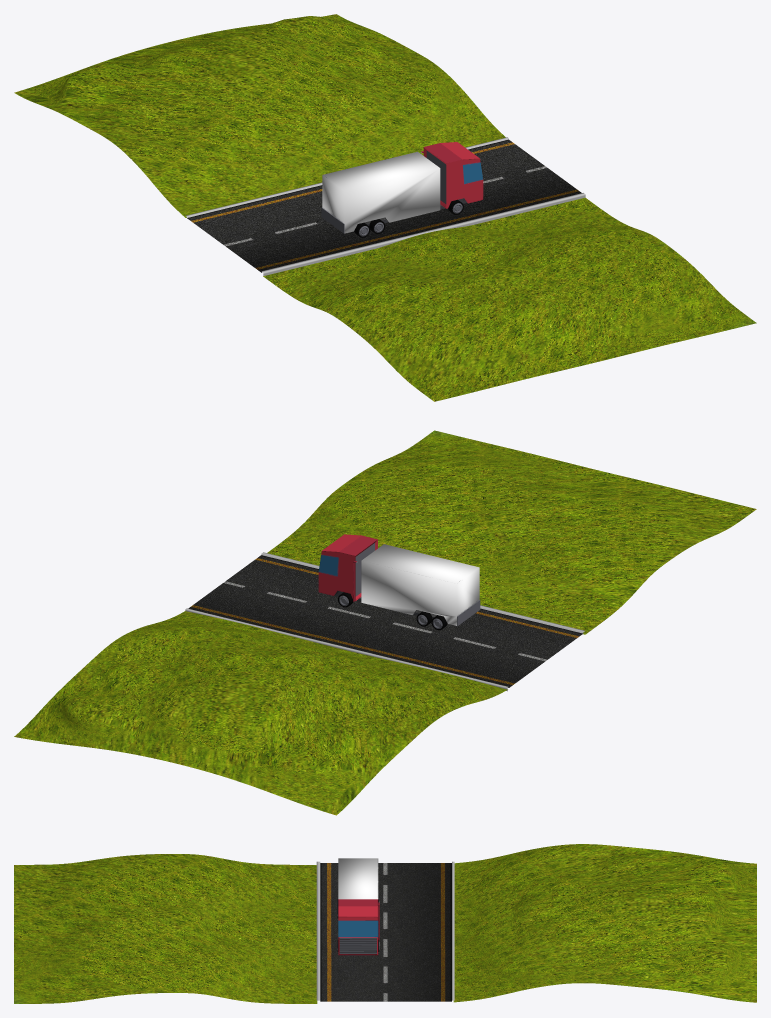
The model's file is kamion.glb.
3 views of the same model, one above another, from view 1: azimuth 30°, elevation 25°; view 2: azimuth 150°, elevation 25°; view 3: azimuth 270°, elevation 25° (orthographic). The views are drawn at different scales.
Parts seen in each view (by area): view 1: kamion_terrain, kamion_cesta, kamion_naklad, kamion; view 2: kamion_terrain, kamion_cesta, kamion_naklad, kamion; view 3: kamion_terrain, kamion_cesta, kamion, kamion_naklad.
Part boxes in pixels (x1=…): kamion_terrain: x1=14, y1=14, x2=756, y2=401; kamion_cesta: x1=185, y1=137, x2=585, y2=275; kamion_naklad: x1=322, y1=151, x2=440, y2=233; kamion: x1=321, y1=142, x2=483, y2=233; kamion_terrain: x1=14, y1=430, x2=756, y2=815; kamion_cesta: x1=185, y1=552, x2=584, y2=691; kamion_naklad: x1=361, y1=544, x2=479, y2=625; kamion: x1=318, y1=534, x2=480, y2=626; kamion_terrain: x1=14, y1=844, x2=756, y2=1003; kamion_cesta: x1=316, y1=861, x2=454, y2=1001; kamion: x1=338, y1=899, x2=379, y2=955; kamion_naklad: x1=338, y1=858, x2=378, y2=899.
Size of the model in its own units: 16.01 by 2.67 by 36.13.
4 materials, 4 textured.
